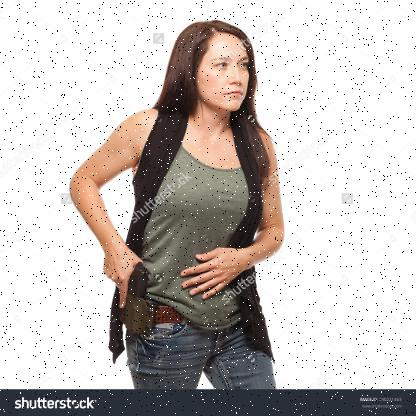pistol: (112, 260, 152, 333)
